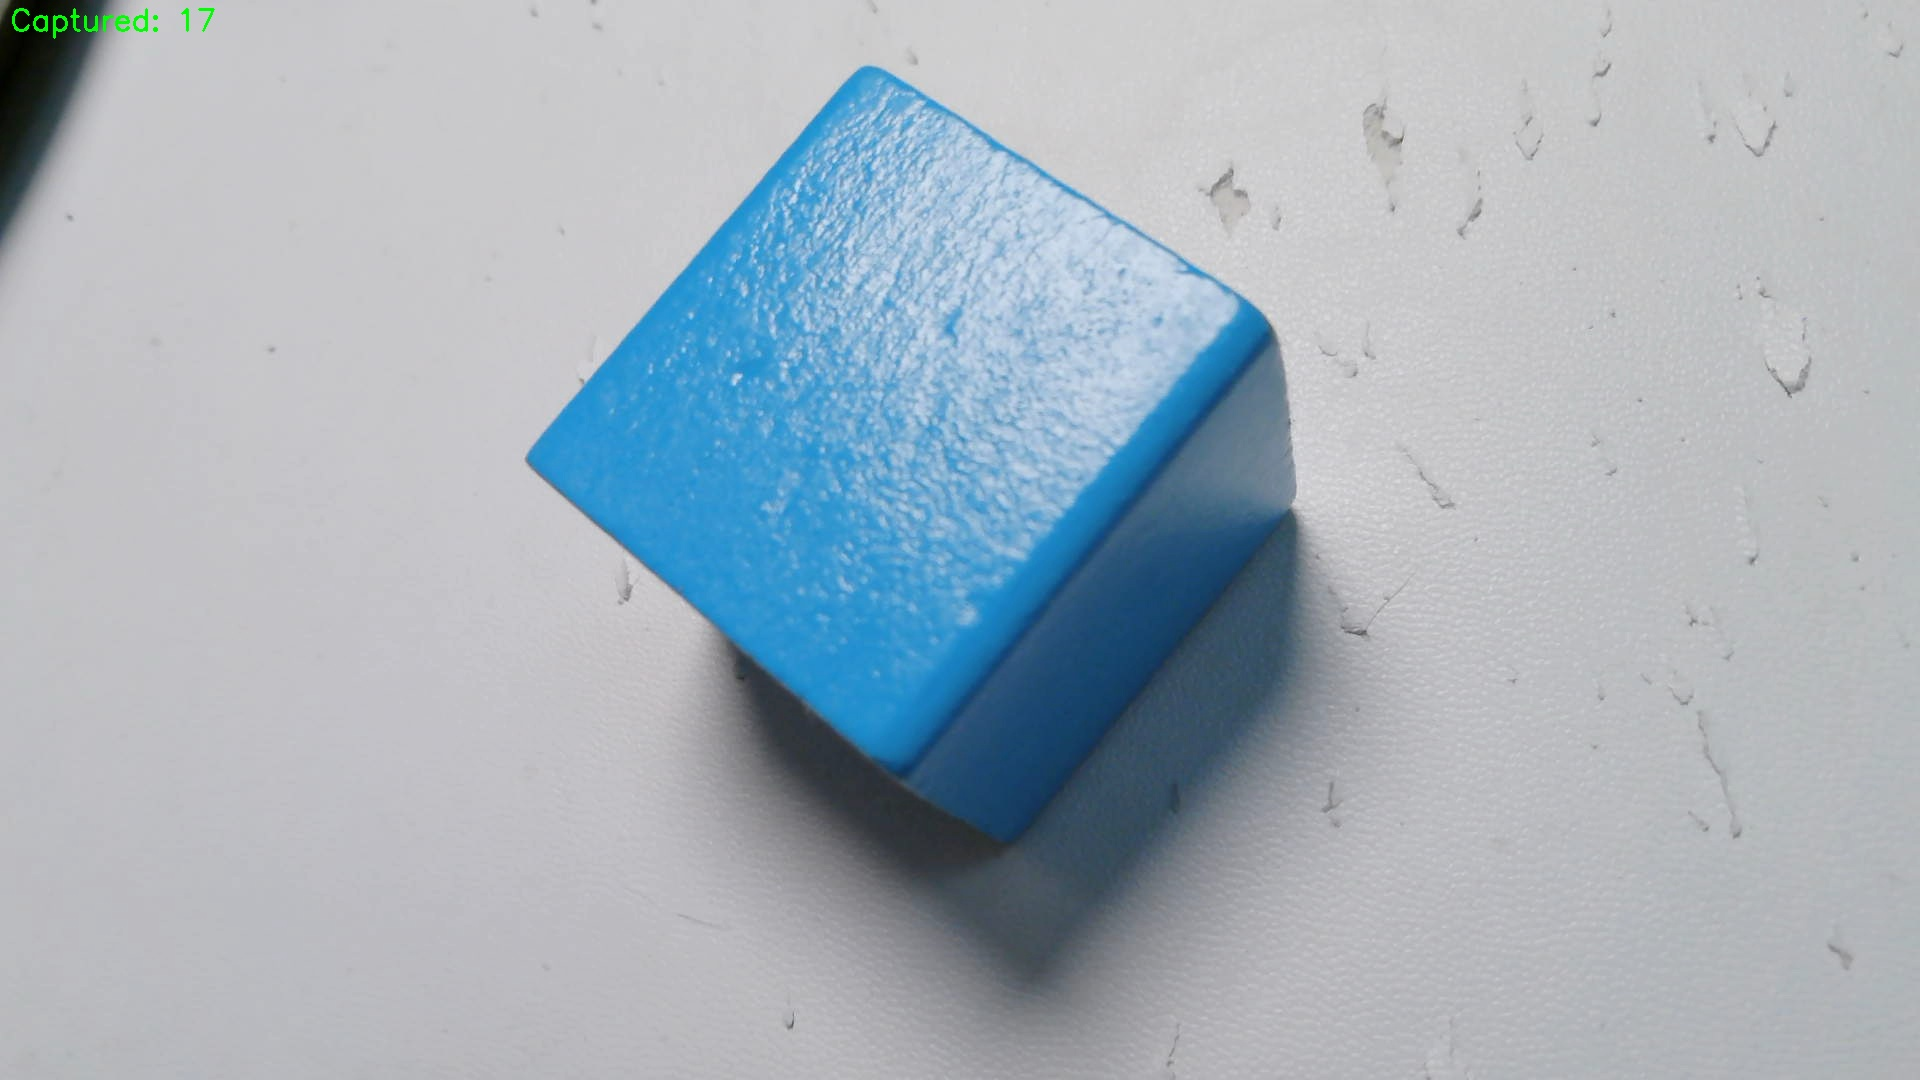blue: (520, 66, 1302, 847)
